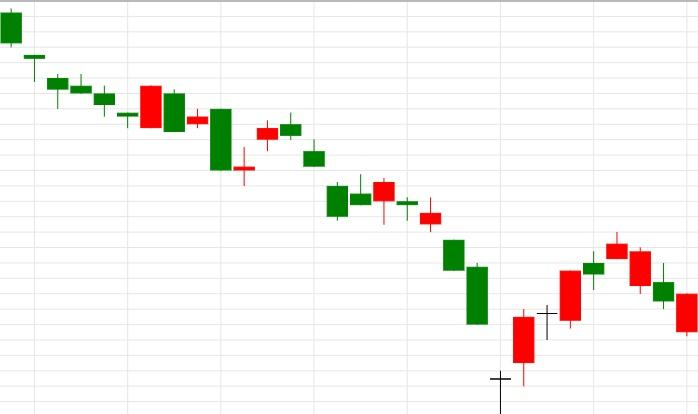three_black_crows_fall: (233, 111, 349, 221)
